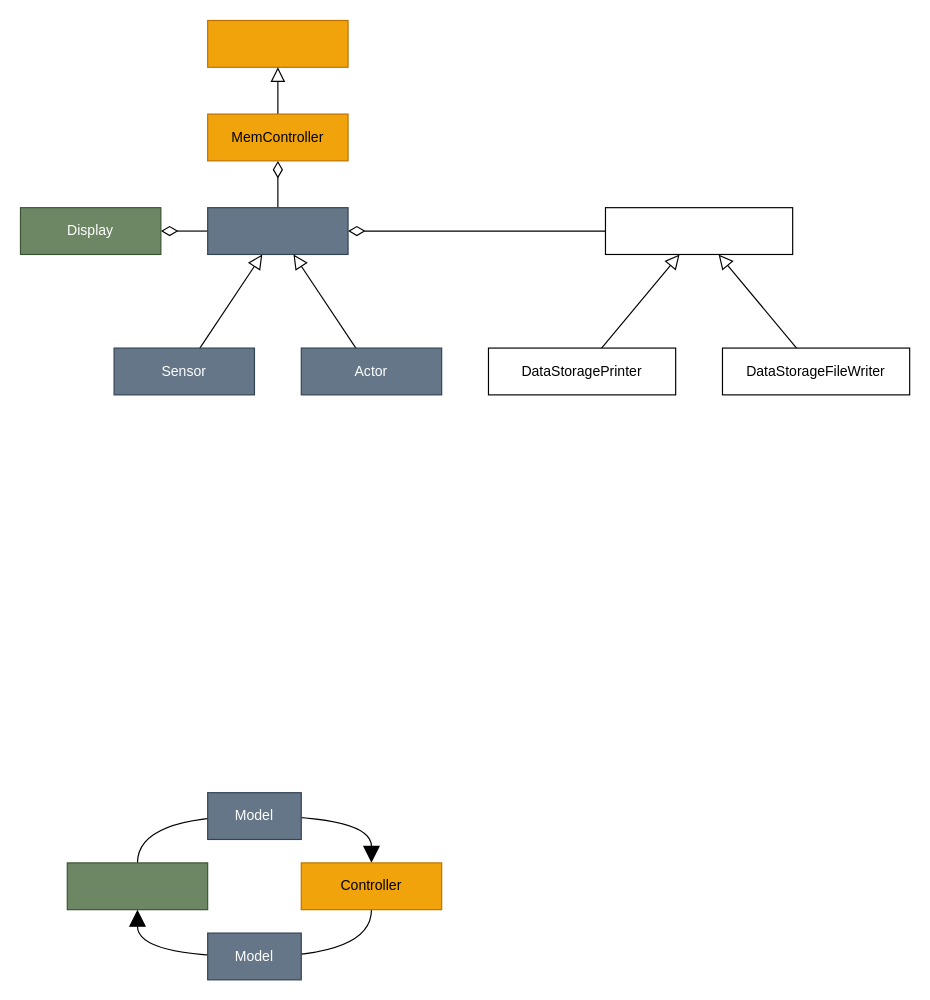
The diagram is 930 pixels wide and 1000 high, and some of its shapes have lost their labels. Here are the shapes that lost their labels. From the top down, the box of each, then its label:
(207, 19, 348, 67): ControllerInterface
(207, 207, 348, 254): Component
(604, 207, 793, 254): DataStorageInterface
(66, 862, 208, 910): View
